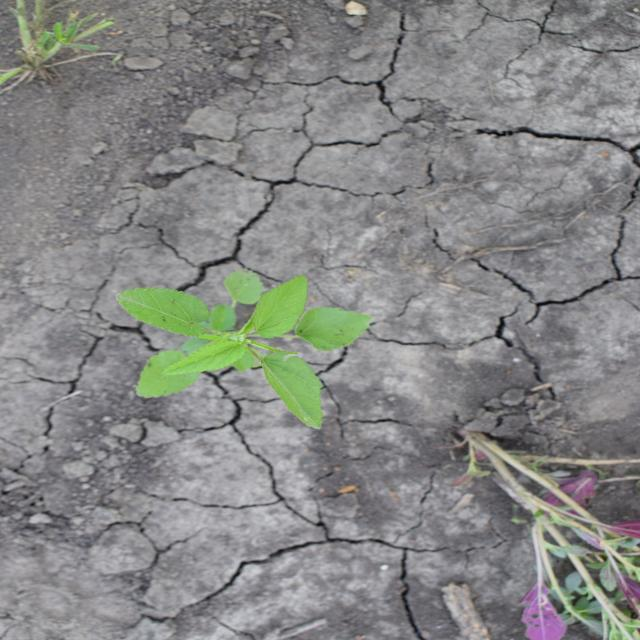PricklySida: (111, 267, 376, 430)
